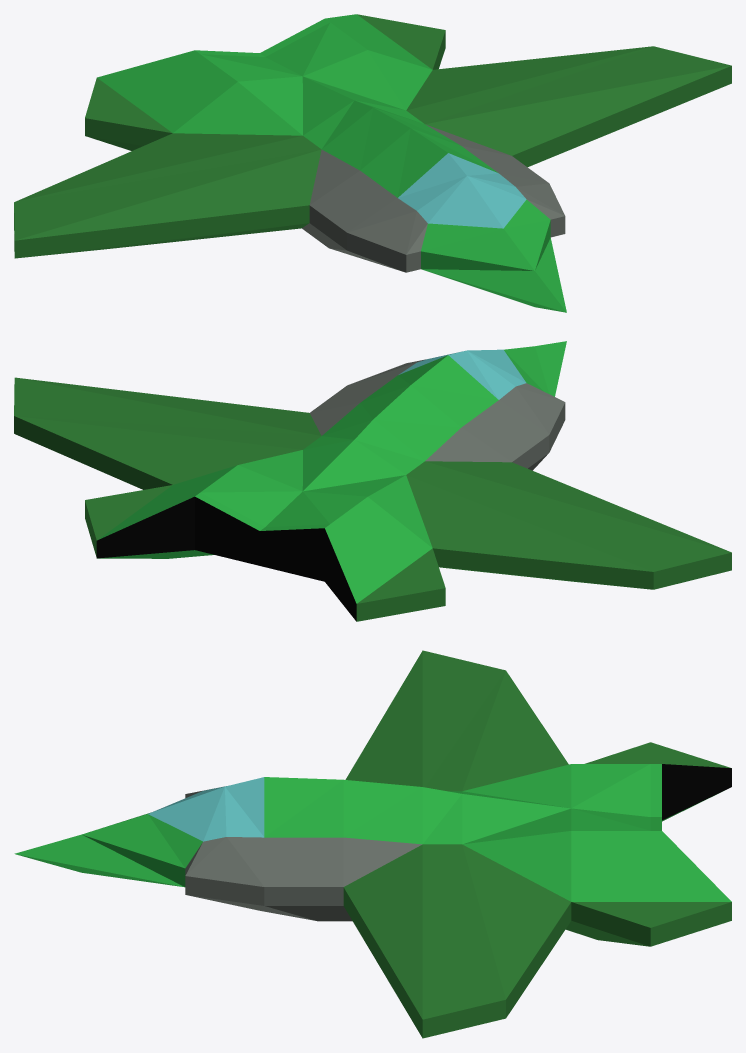
File: AllyNPC.obj
The picture shows the model from 3 angles, top to bottom: view 1: azimuth 30°, elevation 25°; view 2: azimuth 150°, elevation 25°; view 3: azimuth 270°, elevation 25°; orthographic projection. The views are drawn at different scales.
Parts seen in each view (by area): view 1: 立方体.001; view 2: 立方体.001; view 3: 立方体.001.
Boxes of the visible parts, box(x1,y1,x2,y2) form: 立方体.001: box(14, 14, 731, 312); 立方体.001: box(14, 341, 731, 621); 立方体.001: box(14, 650, 731, 1038).
Size of the model in its own units: 11.89 by 1.44 by 9.77.
1 material, 1 textured.
